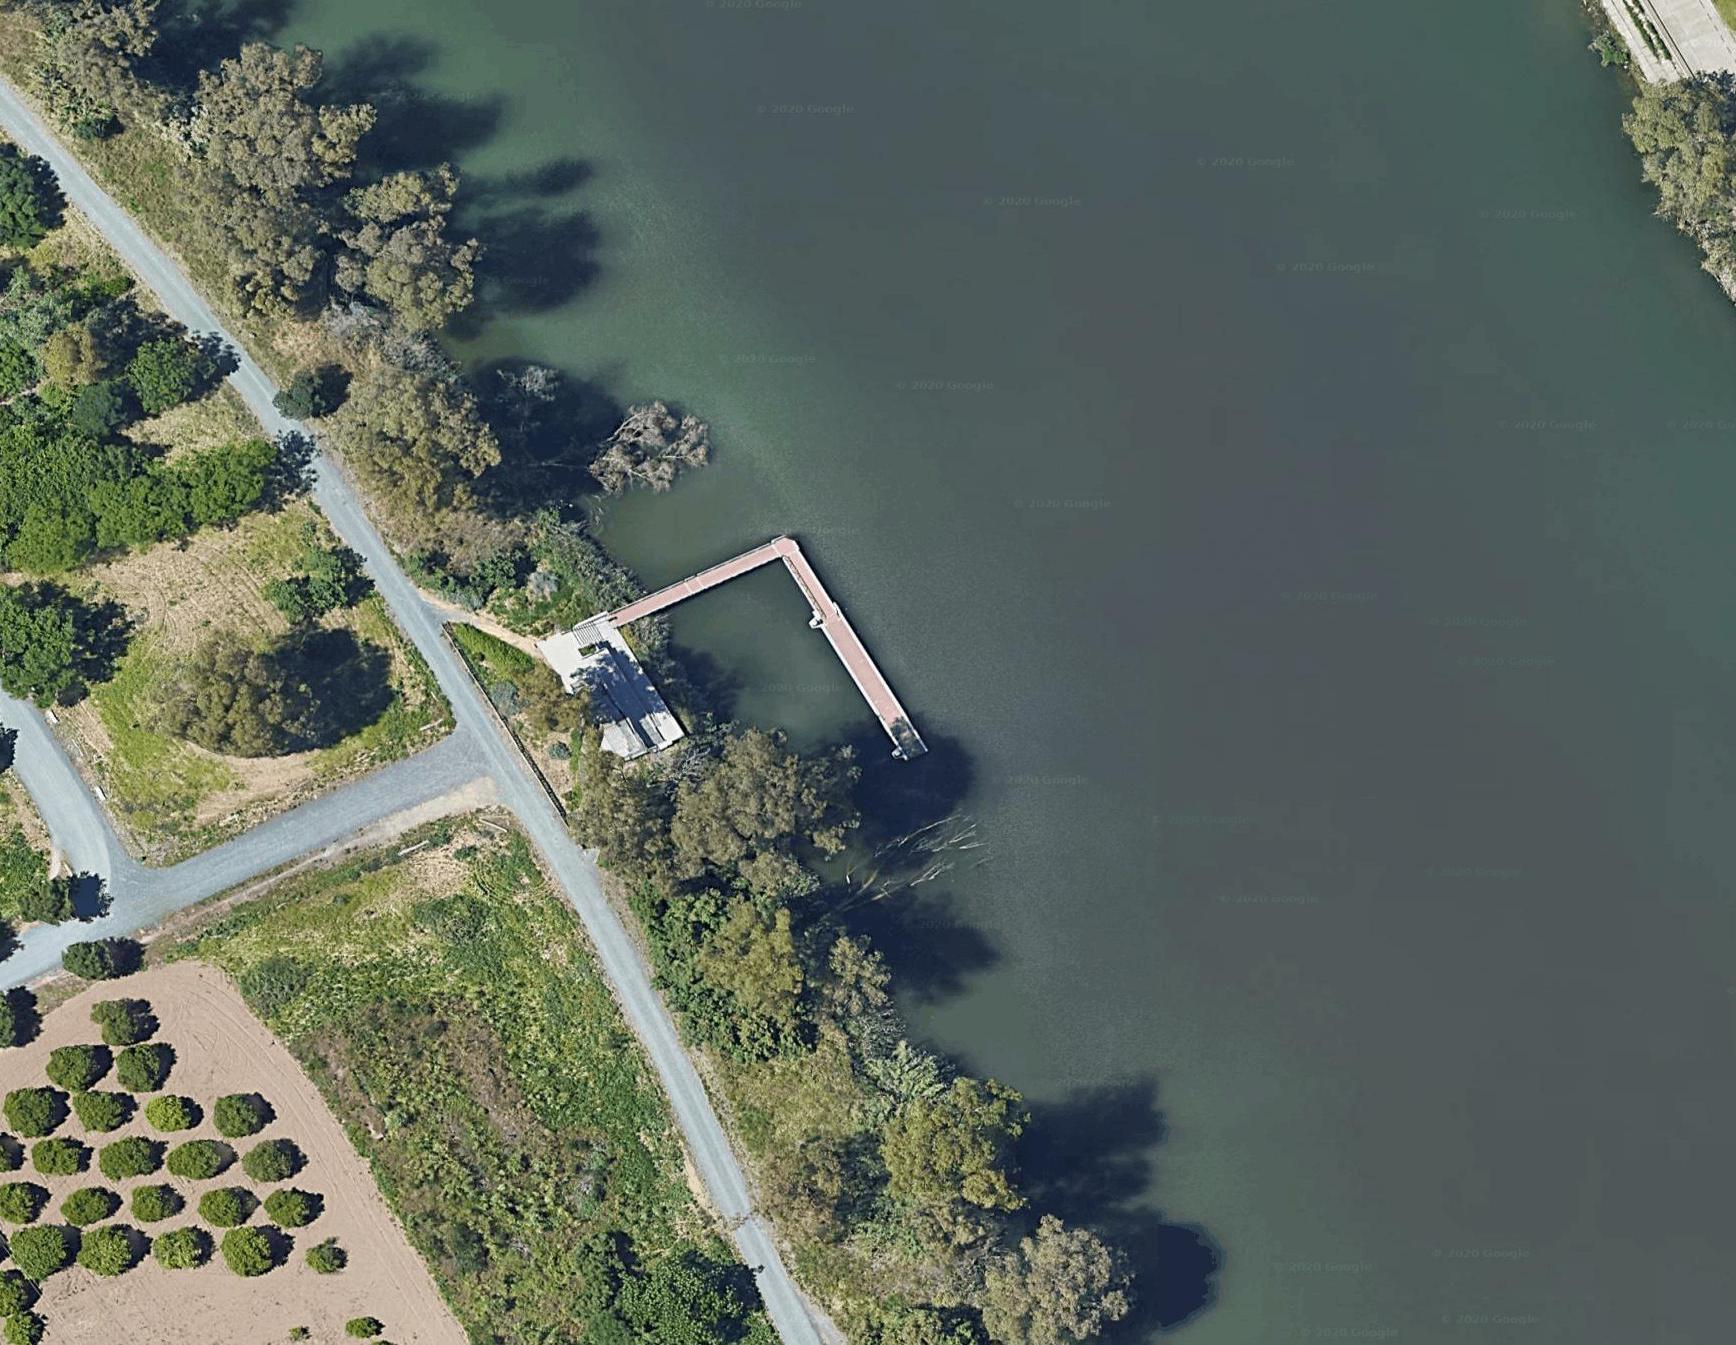harbor: (613, 538, 919, 777)
